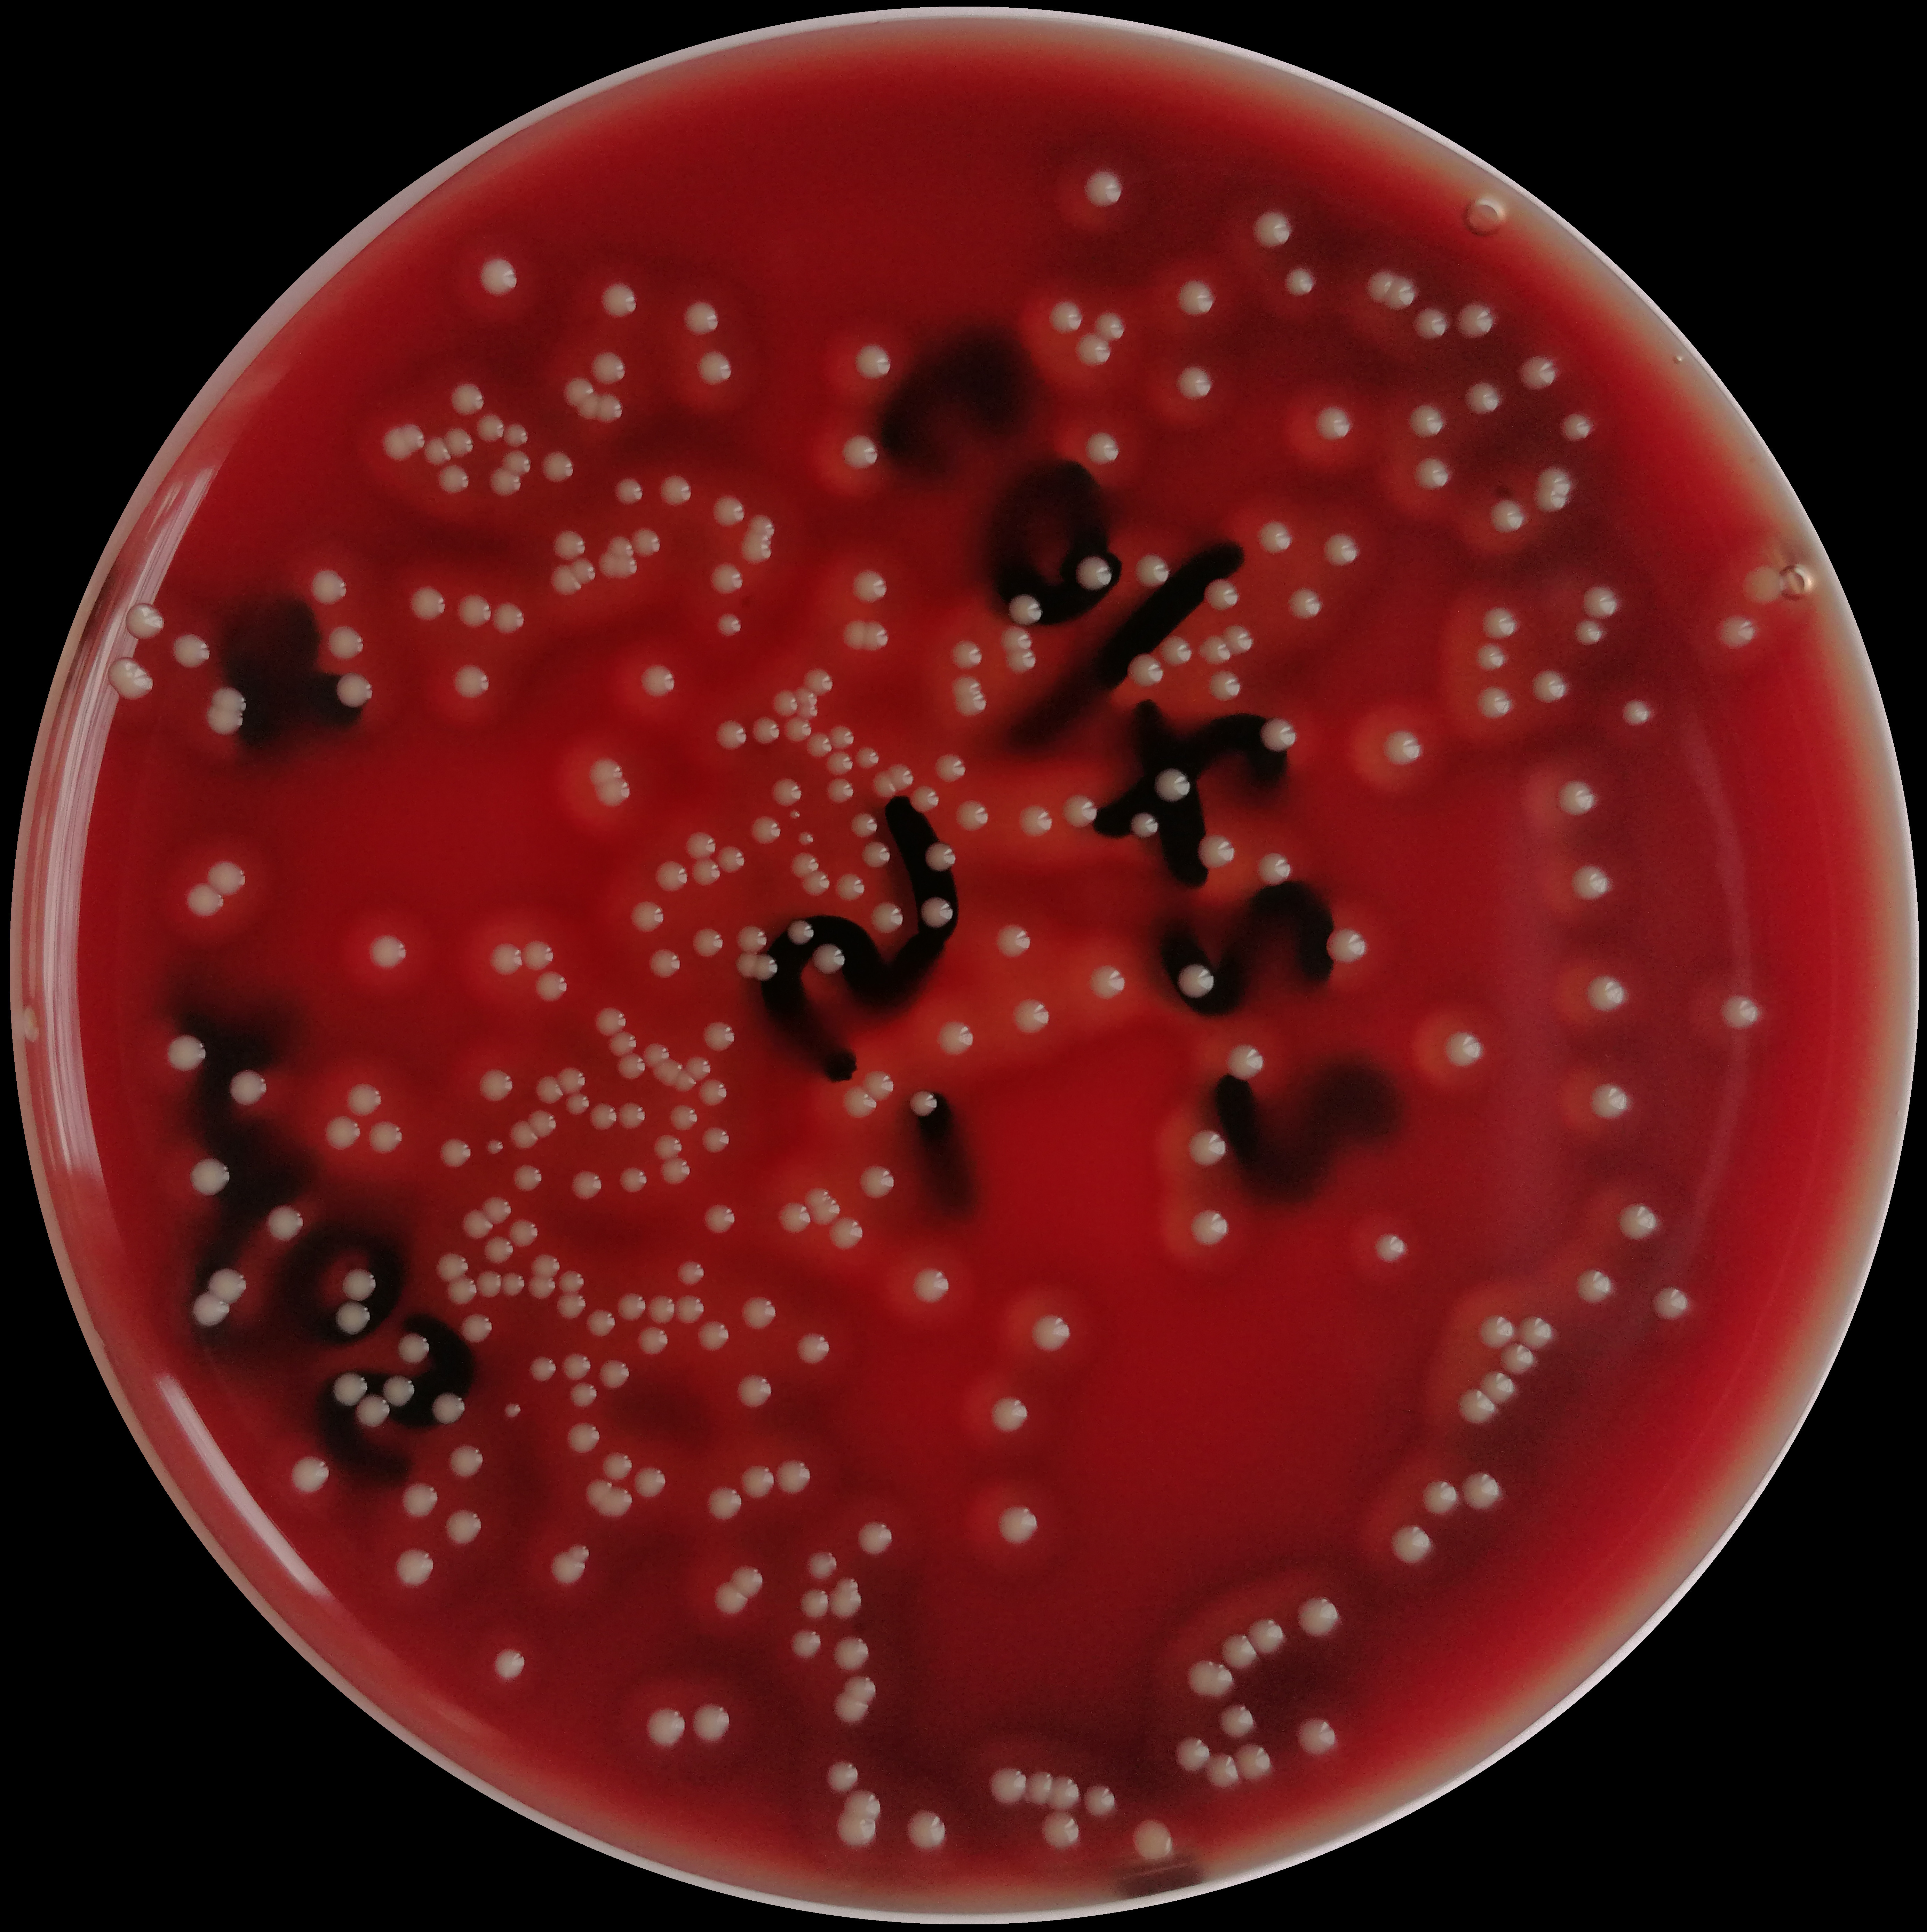sp21: (1182, 1659, 1235, 1704), (1738, 563, 1788, 610), (1129, 1814, 1175, 1865), (108, 655, 155, 702), (993, 1503, 1041, 1549), (1387, 1523, 1436, 1567), (161, 1032, 212, 1075), (1080, 166, 1128, 210), (1585, 1078, 1632, 1122), (1027, 1313, 1075, 1357), (205, 856, 254, 898), (1708, 610, 1758, 653), (1251, 208, 1295, 254), (443, 1507, 489, 1551), (642, 1704, 686, 1750), (1295, 1593, 1341, 1637), (1459, 1466, 1503, 1512), (288, 1452, 332, 1498), (1442, 1029, 1489, 1071), (1184, 1126, 1228, 1170), (394, 1547, 438, 1591), (849, 341, 895, 383), (1571, 856, 1613, 902), (1583, 970, 1629, 1013), (1615, 1200, 1657, 1246), (1188, 1203, 1233, 1246), (187, 1154, 233, 1196), (1719, 992, 1765, 1034), (824, 1574, 865, 1621), (905, 1805, 946, 1853), (909, 1262, 951, 1306), (1323, 925, 1369, 965), (124, 602, 169, 642), (323, 621, 369, 662), (475, 254, 521, 295), (311, 561, 349, 609), (1225, 1041, 1267, 1083), (1650, 1281, 1692, 1323), (1087, 960, 1129, 1002), (986, 1766, 1029, 1808), (1295, 1713, 1338, 1756), (334, 669, 376, 711), (1173, 277, 1218, 318), (1380, 727, 1424, 768), (685, 1701, 729, 1741), (986, 1394, 1031, 1434), (321, 1112, 365, 1152), (598, 279, 642, 319), (932, 1018, 978, 1057), (180, 880, 226, 919), (1456, 300, 1498, 341), (1581, 579, 1622, 621), (1555, 776, 1597, 817), (367, 928, 409, 969), (1518, 353, 1558, 393), (1256, 713, 1297, 753), (854, 1516, 895, 1556), (452, 658, 492, 699), (454, 589, 494, 630), (1076, 554, 1117, 595), (1152, 766, 1195, 805), (801, 1182, 840, 1224), (1168, 1734, 1211, 1773), (1244, 1616, 1286, 1655), (446, 379, 489, 418), (1576, 1265, 1613, 1309), (1472, 1314, 1516, 1352), (833, 1810, 877, 1847), (679, 298, 724, 335), (1489, 494, 1528, 535), (1256, 517, 1297, 556), (1253, 850, 1293, 889), (1514, 1311, 1553, 1352), (831, 1634, 872, 1673), (547, 1549, 588, 1588), (1039, 1808, 1080, 1847), (1422, 1477, 1461, 1517), (334, 1300, 374, 1339), (191, 1290, 231, 1329), (229, 1067, 268, 1108), (344, 1078, 385, 1117), (409, 582, 448, 623), (838, 432, 879, 471), (1195, 833, 1237, 870), (1009, 997, 1052, 1034), (995, 919, 1032, 962), (446, 1443, 489, 1480), (206, 1267, 249, 1304), (694, 349, 736, 386), (1477, 603, 1521, 639), (1456, 1389, 1500, 1424), (206, 683, 251, 718), (1131, 552, 1170, 591), (1061, 794, 1099, 833), (734, 1371, 773, 1410), (595, 1484, 634, 1523), (704, 1484, 743, 1523), (399, 1479, 438, 1517), (265, 1203, 304, 1242), (851, 566, 889, 605), (1083, 429, 1122, 468), (1475, 683, 1512, 723), (1198, 1750, 1239, 1787), (1216, 1703, 1256, 1740), (1219, 1632, 1260, 1669), (332, 1369, 372, 1406), (365, 1119, 406, 1156), (1200, 575, 1242, 610), (842, 1787, 884, 1823), (1048, 1771, 1083, 1814), (637, 662, 679, 697), (1406, 307, 1451, 341), (1177, 363, 1216, 401), (1313, 404, 1352, 441), (1408, 402, 1447, 439), (1286, 584, 1325, 621), (1128, 653, 1166, 690), (1177, 962, 1216, 999), (1477, 1367, 1516, 1404), (840, 1085, 879, 1122), (918, 893, 956, 930), (626, 896, 665, 933), (699, 1200, 738, 1237), (741, 1293, 778, 1332), (1232, 1743, 1271, 1780), (355, 1390, 392, 1429), (656, 473, 695, 510), (1006, 591, 1045, 628), (1322, 531, 1362, 566), (711, 1581, 752, 1616), (829, 1692, 870, 1727), (549, 526, 589, 561), (1528, 669, 1571, 702), (955, 796, 992, 833), (653, 857, 690, 895), (775, 1457, 812, 1494), (1082, 1782, 1119, 1819), (342, 1267, 379, 1304), (489, 598, 526, 635), (1283, 263, 1318, 302), (1369, 1232, 1408, 1267), (1498, 1341, 1537, 1376), (531, 969, 570, 1004), (457, 1311, 496, 1346), (840, 1671, 879, 1706), (379, 1371, 415, 1410), (169, 632, 208, 667), (436, 459, 471, 498), (792, 1332, 833, 1366), (1046, 298, 1083, 333), (1465, 379, 1502, 415), (1413, 453, 1449, 490), (858, 1164, 895, 1200), (1018, 803, 1055, 838), (702, 1016, 738, 1053), (596, 1355, 632, 1392), (739, 1463, 776, 1498), (727, 1563, 764, 1599), (709, 559, 746, 595), (538, 448, 575, 483), (593, 349, 628, 386), (566, 1419, 600, 1457), (492, 1646, 526, 1685), (1022, 1768, 1055, 1807), (711, 489, 745, 528), (1073, 333, 1113, 365), (478, 1066, 514, 1101), (778, 1198, 814, 1233), (828, 1214, 863, 1249), (432, 1390, 468, 1426), (632, 1464, 667, 1500), (826, 1757, 861, 1793), (1209, 667, 1242, 704), (868, 900, 905, 933), (489, 942, 522, 979), (695, 1318, 732, 1352), (637, 1323, 671, 1360), (205, 704, 242, 738), (611, 473, 648, 506), (1002, 642, 1039, 676), (570, 385, 604, 422), (1383, 272, 1415, 311), (436, 1136, 475, 1168), (948, 637, 986, 669), (586, 755, 626, 785), (379, 422, 409, 462), (859, 1067, 895, 1101), (932, 752, 967, 785), (715, 716, 748, 752), (690, 925, 725, 958), (582, 1306, 618, 1339), (434, 1249, 469, 1283), (805, 1547, 838, 1583), (559, 374, 595, 408), (441, 425, 476, 459), (1364, 266, 1396, 303), (810, 942, 847, 974), (591, 1004, 628, 1036), (695, 1073, 727, 1110), (549, 561, 581, 598), (746, 815, 785, 845), (394, 1334, 432, 1364), (593, 776, 632, 806), (861, 618, 891, 656), (1198, 633, 1232, 667), (1129, 808, 1163, 842), (648, 946, 681, 979), (699, 1124, 732, 1157), (614, 1290, 648, 1323), (445, 1272, 478, 1306), (598, 1449, 632, 1482), (628, 524, 662, 558), (923, 842, 958, 873), (831, 872, 866, 903), (859, 838, 895, 870), (683, 829, 718, 861), (531, 1075, 566, 1106), (568, 1168, 604, 1200), (799, 663, 835, 695), (741, 531, 776, 563), (791, 1625, 821, 1662), (600, 1027, 639, 1055), (1533, 483, 1567, 515), (1574, 614, 1606, 648), (1620, 695, 1652, 729), (1221, 623, 1253, 656), (907, 782, 941, 813), (769, 776, 803, 808), (750, 715, 784, 746), (713, 845, 746, 877), (521, 939, 554, 970), (651, 1055, 683, 1089), (616, 1164, 649, 1196), (672, 1258, 706, 1290), (642, 1295, 676, 1327), (506, 1217, 540, 1249), (482, 1235, 515, 1267), (561, 1348, 593, 1382), (799, 1586, 831, 1620), (501, 443, 533, 476), (489, 466, 522, 498), (1558, 411, 1593, 441), (508, 1161, 544, 1191), (459, 1209, 494, 1239), (1477, 640, 1509, 672), (660, 1156, 692, 1187), (526, 1353, 558, 1385), (581, 1477, 612, 1509), (473, 413, 505, 445), (734, 925, 768, 955), (715, 607, 745, 640), (595, 390, 625, 423), (499, 420, 533, 450), (424, 432, 452, 468), (1092, 312, 1124, 342), (905, 1089, 937, 1119), (784, 917, 815, 947), (616, 1099, 648, 1129), (556, 1064, 588, 1094), (526, 1108, 556, 1140), (508, 1120, 540, 1150), (651, 1134, 683, 1164), (480, 1194, 512, 1224), (568, 1378, 598, 1410), (782, 715, 815, 743), (616, 1048, 644, 1082), (401, 420, 429, 453), (690, 856, 720, 886), (683, 1053, 713, 1083), (672, 1293, 702, 1323), (473, 1270, 503, 1300), (1539, 464, 1571, 492), (1159, 637, 1191, 665), (849, 812, 881, 840), (822, 748, 854, 776), (750, 953, 782, 981), (589, 1101, 618, 1133), (556, 1292, 588, 1320), (568, 556, 596, 588), (951, 693, 988, 716), (826, 776, 854, 806), (826, 725, 856, 753), (669, 1103, 699, 1131), (789, 852, 821, 879), (1001, 623, 1032, 649), (840, 618, 865, 651), (746, 515, 780, 540), (948, 672, 983, 695), (604, 531, 632, 559), (595, 549, 623, 577), (769, 686, 798, 715), (886, 760, 912, 790), (641, 1039, 671, 1066), (526, 1274, 556, 1300), (499, 1269, 526, 1299), (528, 1253, 559, 1277), (801, 870, 829, 896), (872, 769, 898, 798), (558, 1269, 588, 1293), (854, 745, 881, 771), (563, 1090, 589, 1117), (794, 699, 822, 723), (734, 947, 757, 977), (806, 734, 833, 759), (614, 554, 637, 582), (672, 1069, 695, 1092), (792, 685, 819, 704), (499, 1399, 522, 1420), (566, 1542, 589, 1563), (484, 1138, 506, 1157), (798, 829, 817, 847), (785, 806, 803, 822)
